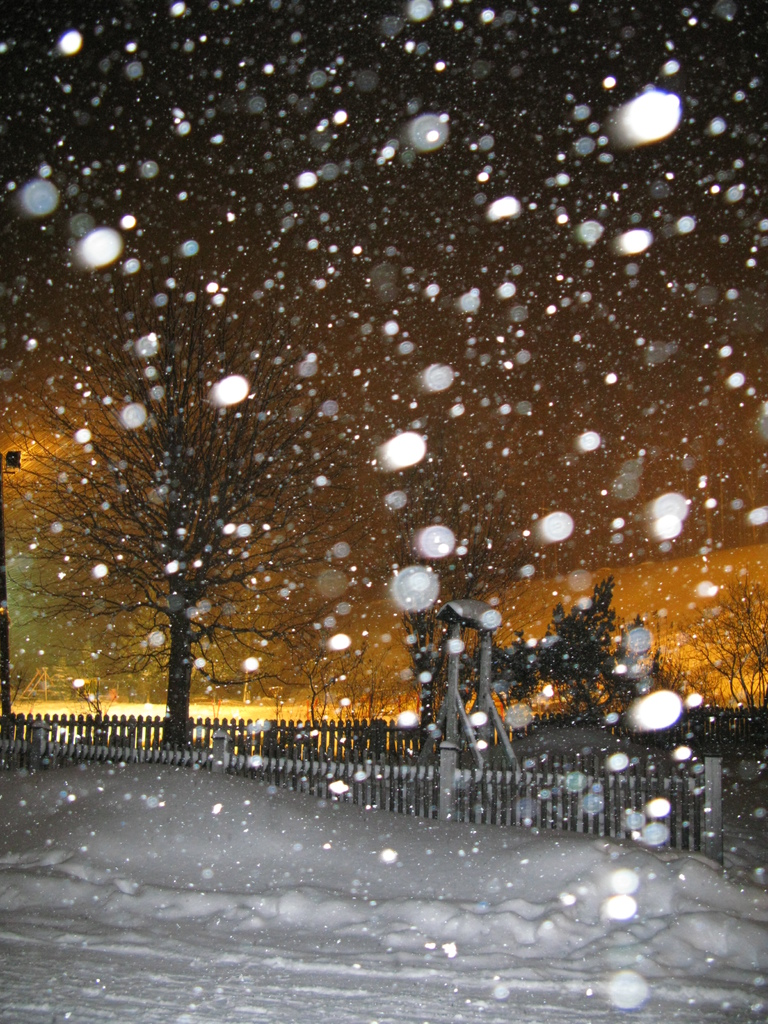Tree: (49, 256, 301, 783), (397, 488, 673, 735), (698, 579, 767, 714)
